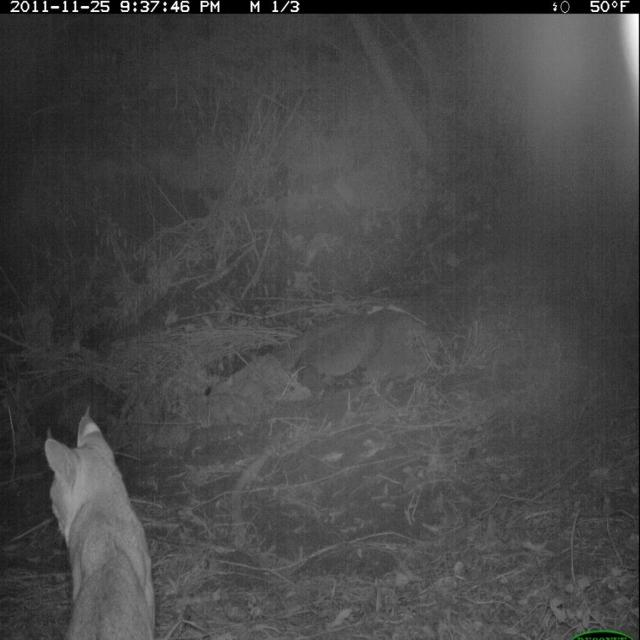bobcat: (40, 397, 162, 640)
